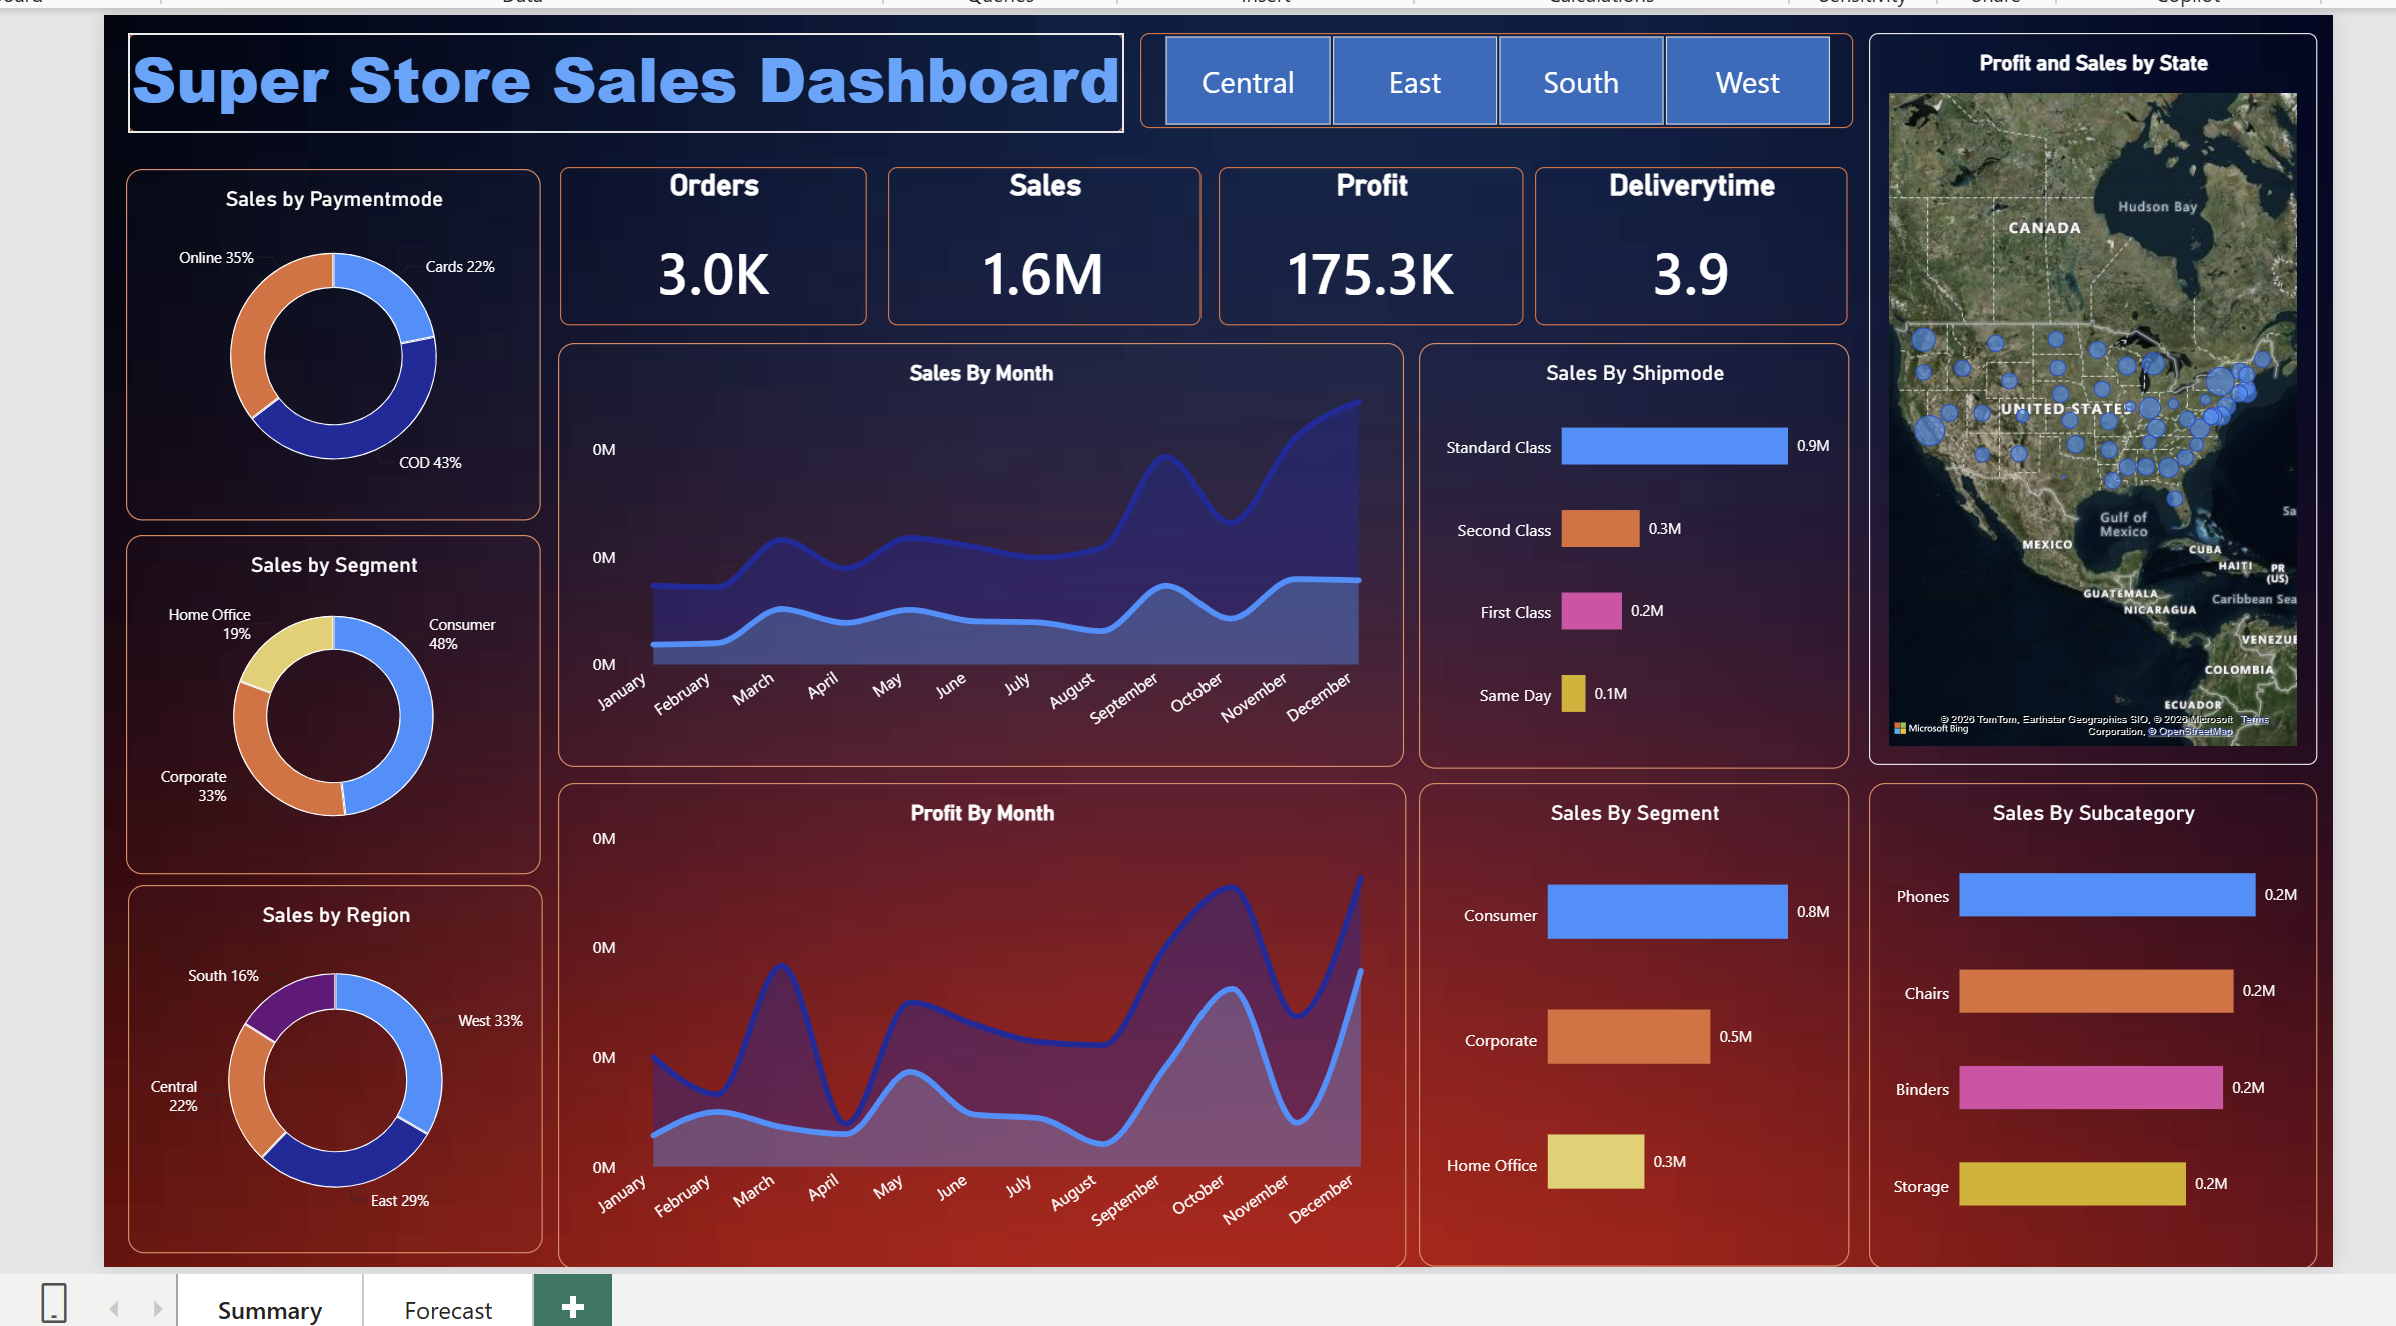

The dashboard page shown, as its layout file describes it:
{"tool":"powerbi","page":{"name":"Summary","canvas":[1920,1080],"ordinal":0},"visuals":[{"type":"barChart","title":"Sales By Shipmode","fields":{"Category":["SuperStore_Sales_Dataset.Ship Mode"],"Y":["Sum(SuperStore_Sales_Dataset.Sales)"]},"box":[1132.1,283,371,367.2],"z":0},{"type":"barChart","title":"Sales By Segment","fields":{"Category":["SuperStore_Sales_Dataset.Segment"],"Y":["Sum(SuperStore_Sales_Dataset.Sales)"]},"box":[1132.1,661.7,371,416.9],"z":1000},{"type":"barChart","title":"Sales By Subcategory","fields":{"Category":["SuperStore_Sales_Dataset.Sub-Category"],"Y":["Sum(SuperStore_Sales_Dataset.Sales)"]},"box":[1520.3,661.7,386.3,418.8],"z":2000},{"type":"map","title":"Profit and Sales by State","fields":{"Category":["SuperStore_Sales_Dataset.State"],"Size":["Sum(SuperStore_Sales_Dataset.Profit)"]},"box":[1520.3,15.3,386.3,631.1],"z":3000},{"type":"stackedAreaChart","title":"Sales By Month","fields":{"Y":["Sum(SuperStore_Sales_Dataset.Sales)"],"Category":["SuperStore_Sales_Dataset.Order Date.Variation.Date Hierarchy.Month"],"Series":["SuperStore_Sales_Dataset.Order Date.Variation.Date Hierarchy.Year"]},"box":[392,283,728.6,365.3],"z":4000},{"type":"stackedAreaChart","title":"Profit By Month","fields":{"Y":["Sum(SuperStore_Sales_Dataset.Profit)"],"Category":["SuperStore_Sales_Dataset.Order Date.Variation.Date Hierarchy.Month"],"Series":["SuperStore_Sales_Dataset.Order Date.Variation.Date Hierarchy.Year"]},"box":[392,661.7,730.5,418.8],"z":5000},{"type":"donutChart","title":"Sales by Paymentmode","fields":{"Y":["Sum(SuperStore_Sales_Dataset.Sales)"],"Series":["SuperStore_Sales_Dataset.Payment Mode"]},"box":[19.1,132,357.6,303.1],"z":6000},{"type":"donutChart","title":"Sales by Region","fields":{"Y":["Sum(SuperStore_Sales_Dataset.Sales)"],"Category":["SuperStore_Sales_Dataset.Region"]},"box":[20.1,750.6,357.6,317.5],"z":7000},{"type":"donutChart","title":"Sales by Segment","fields":{"Y":["Sum(SuperStore_Sales_Dataset.Sales)"],"Series":["SuperStore_Sales_Dataset.Segment"]},"box":[19.1,447.5,357.6,292.6],"z":8000},{"type":"cardVisual","title":"Orders","fields":{"Data":["Count(SuperStore_Sales_Dataset.Order ID)"]},"box":[392.4,131.4,264.5,136.5],"z":9000},{"type":"cardVisual","title":"Sales","fields":{"Data":["Sum(SuperStore_Sales_Dataset.Sales)"]},"box":[675.6,131.4,269.6,136.5],"z":10000},{"type":"cardVisual","title":"Profit","fields":{"Data":["Sum(SuperStore_Sales_Dataset.Profit)"]},"box":[960.6,131.4,262.7,136.5],"z":11000},{"type":"cardVisual","title":"Deliverytime","fields":{"Data":["Avg(SuperStore_Sales_Dataset.AverageDelivery)"]},"box":[1233.6,131.4,269.6,136.5],"z":12000},{"type":"slicer","fields":{"Values":["SuperStore_Sales_Dataset.Region"]},"box":[893.1,15.3,613.9,82.2],"z":13000},{"type":"textbox","box":[21,15.3,858.6,86.1],"z":15000}]}

Visuals, with their boxes on the page's 1920x1080 design canvas (x1, y1, x2, y2). These are canvas units, not pixel positions in the 2396x1326 screenshot, which may show the page scaled, cropped or inside an application window:
"Sales By Shipmode" barChart: select_region(1132, 283, 1503, 650)
"Sales By Segment" barChart: select_region(1132, 662, 1503, 1079)
"Sales By Subcategory" barChart: select_region(1520, 662, 1907, 1080)
"Profit and Sales by State" map: select_region(1520, 15, 1907, 646)
"Sales By Month" stackedAreaChart: select_region(392, 283, 1121, 648)
"Profit By Month" stackedAreaChart: select_region(392, 662, 1122, 1080)
"Sales by Paymentmode" donutChart: select_region(19, 132, 377, 435)
"Sales by Region" donutChart: select_region(20, 751, 378, 1068)
"Sales by Segment" donutChart: select_region(19, 448, 377, 740)
"Orders" cardVisual: select_region(392, 131, 657, 268)
"Sales" cardVisual: select_region(676, 131, 945, 268)
"Profit" cardVisual: select_region(961, 131, 1223, 268)
"Deliverytime" cardVisual: select_region(1234, 131, 1503, 268)
slicer - SuperStore_Sales_Dataset.Region: select_region(893, 15, 1507, 98)
textbox: select_region(21, 15, 880, 101)
